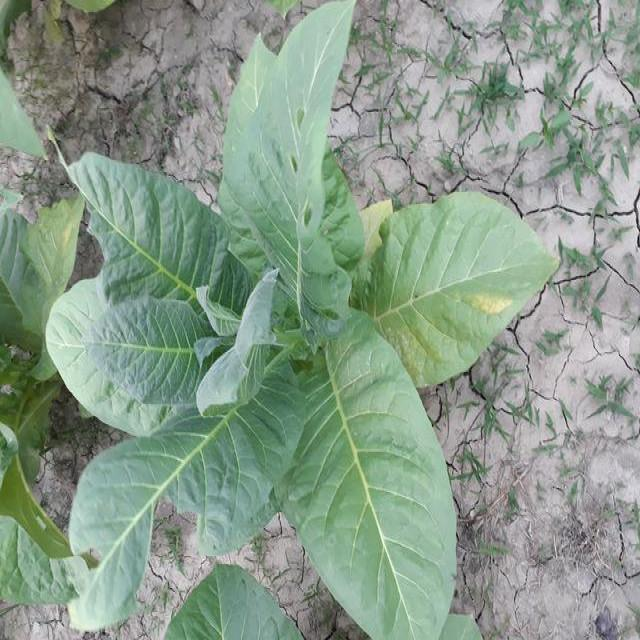crop: (49, 9, 559, 629)
